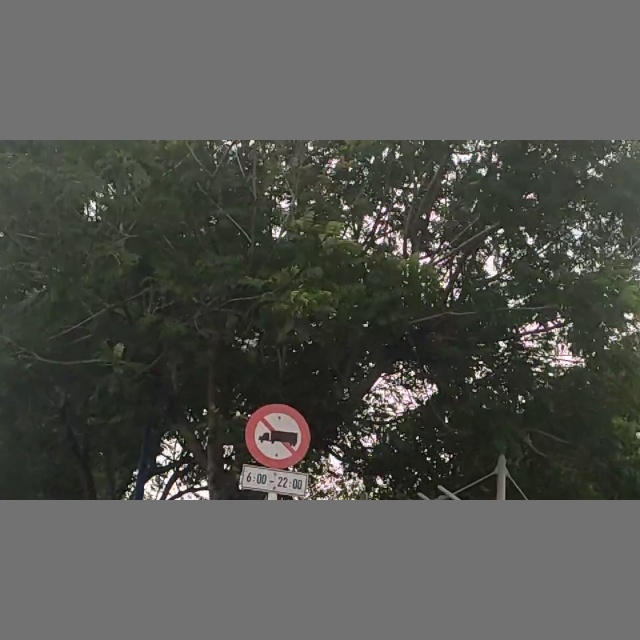B.8a: (242, 405, 308, 491)
